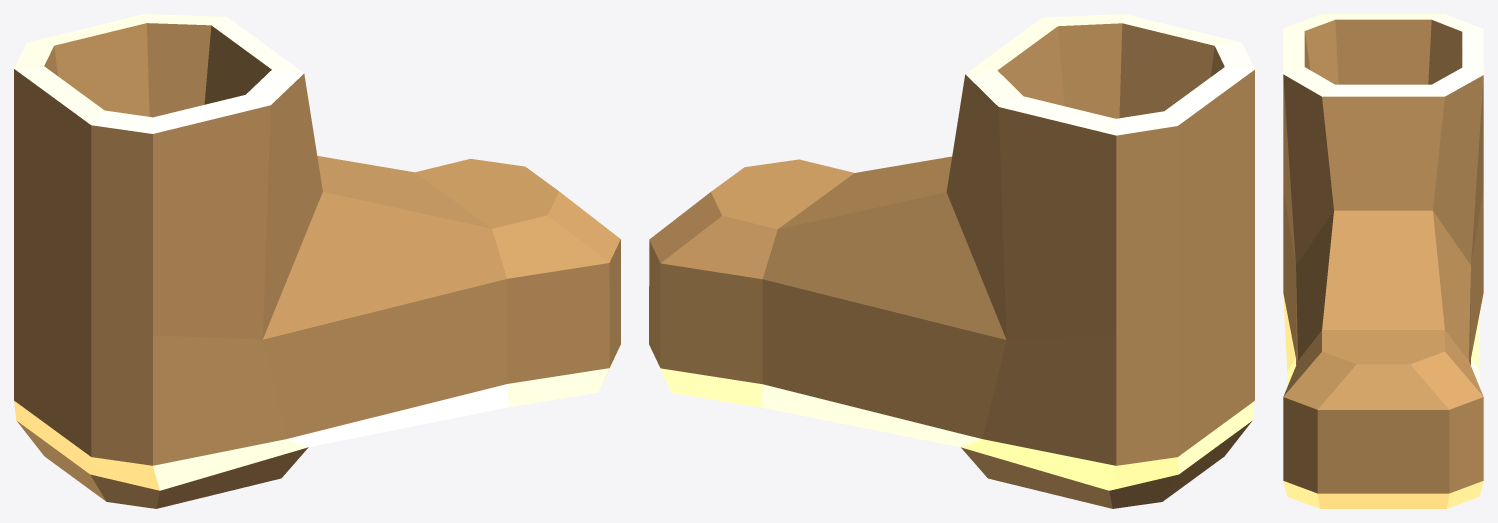
The model's file is boot_fire.glb.
3 renders of one model, left to right at view 1: azimuth 30°, elevation 25°; view 2: azimuth 150°, elevation 25°; view 3: azimuth 270°, elevation 25°, orthographic. The views are drawn at different scales.
Visible parts, largest first — view 1: Cube; view 2: Cube; view 3: Cube.
Part boxes in pixels (x1,y1,x2,y2): Cube: (14, 14, 620, 508); Cube: (649, 14, 1254, 508); Cube: (1283, 14, 1483, 508).
Size of the model in its own units: 1.12 by 0.7956 by 0.4645.
2 materials, 1 textured.
